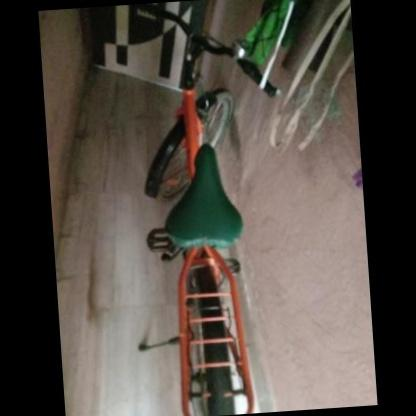Bicycle: (129, 11, 312, 414)
